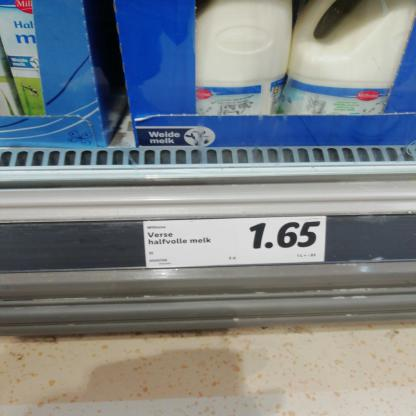prtg: (144, 217, 327, 269)
